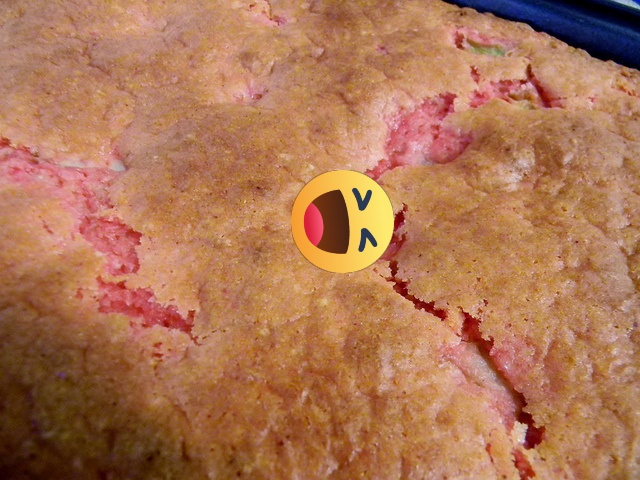haha: (291, 170, 394, 273)
